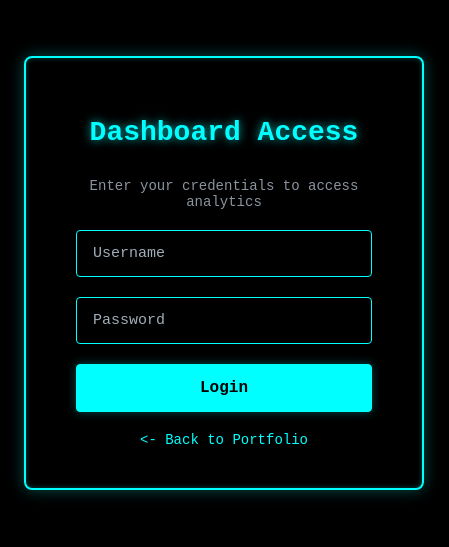
Test: authentication integration › shows the backend error for invalid credentials
Type "wrong" into the field with placeholder "Username" at (224, 253), box [76,230,372,277]
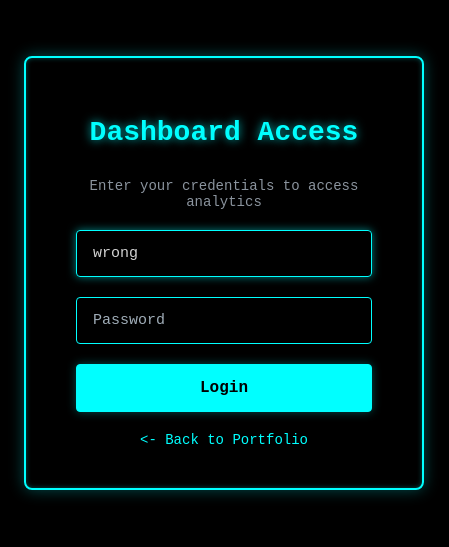
Type "wrong" into the password field with placeholder "Password" at (224, 320), box [76,297,372,344]
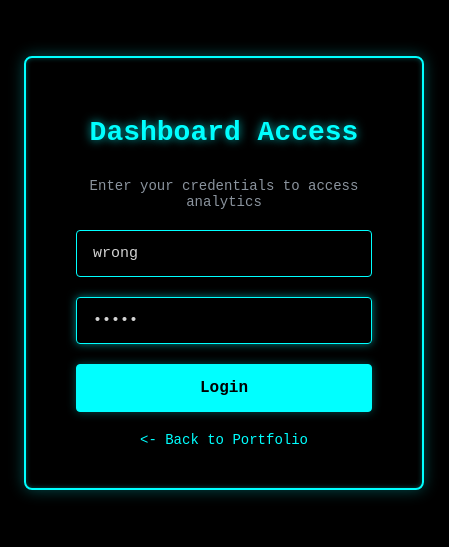
Click the button "Login" at (224, 388), box [76,364,372,412]
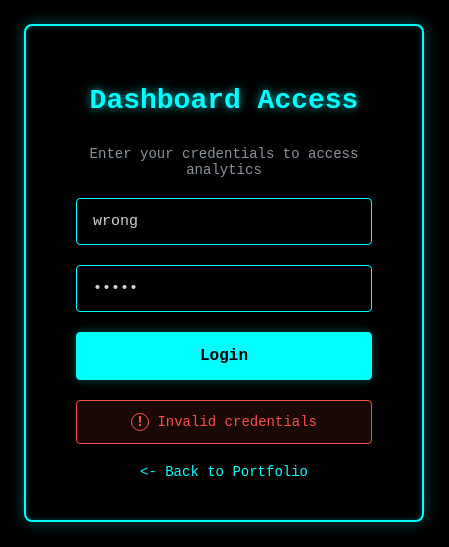
Expected: the text "! Invalid credentials" is shown, [76,400,372,444]
